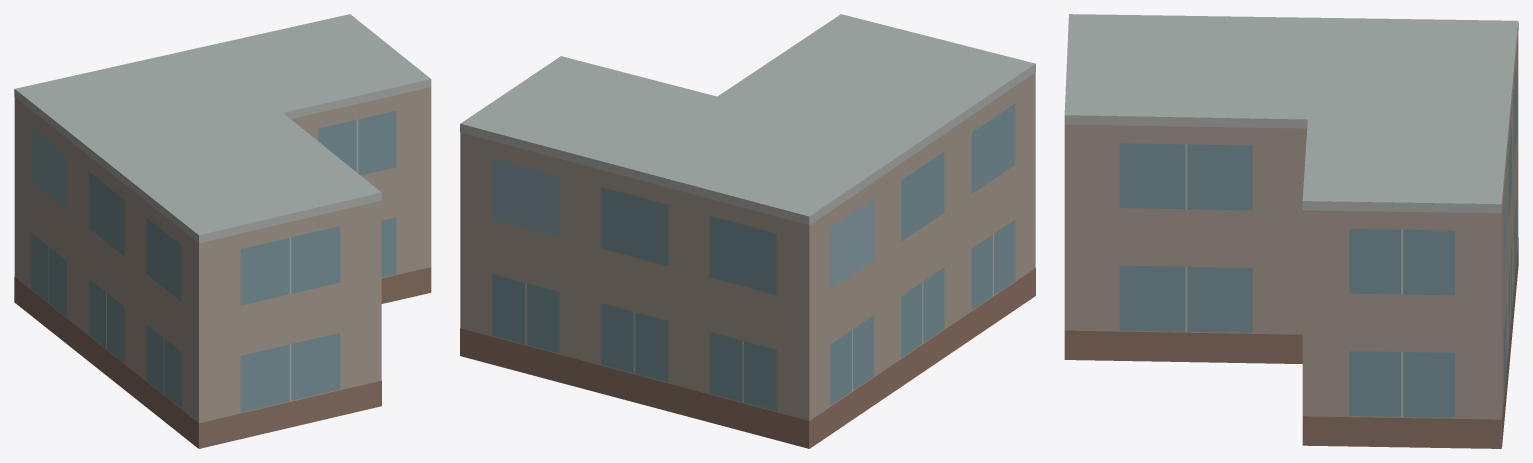
The model's file is survey-upis-32960624.glb.
3 renders of one model, left to right at view 1: azimuth 30°, elevation 25°; view 2: azimuth 150°, elevation 25°; view 3: azimuth 270°, elevation 25°, orthographic. The views are drawn at different scales.
Visible parts, largest first — view 1: survey-upis-32960624.tmp; view 2: survey-upis-32960624.tmp; view 3: survey-upis-32960624.tmp.
Part boxes in pixels (x1,y1,x2,y2): survey-upis-32960624.tmp: (14, 14, 431, 448); survey-upis-32960624.tmp: (460, 14, 1035, 448); survey-upis-32960624.tmp: (1064, 14, 1518, 448).
Bounding box in the file's own units: 10.85 × 6.5 × 10.94.
